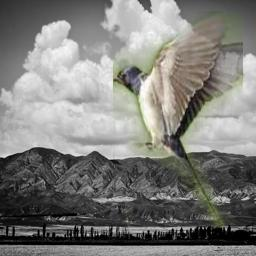Swallow: (113, 11, 243, 228)
